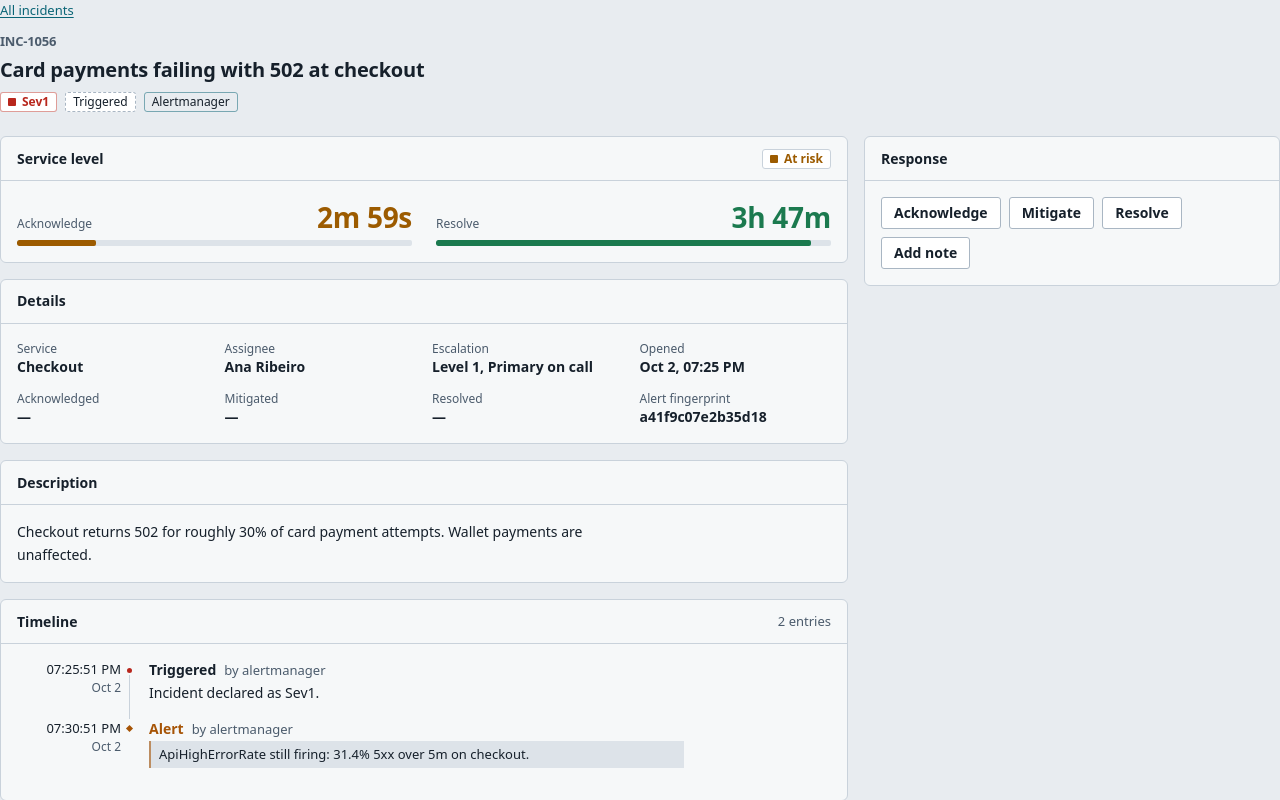
Test: IncidentDetailPage › resolves the incident and appends the resolution to the timeline
Click the button "Resolve" at (1142, 214), box x1=1102 y1=198 x2=1182 y2=230
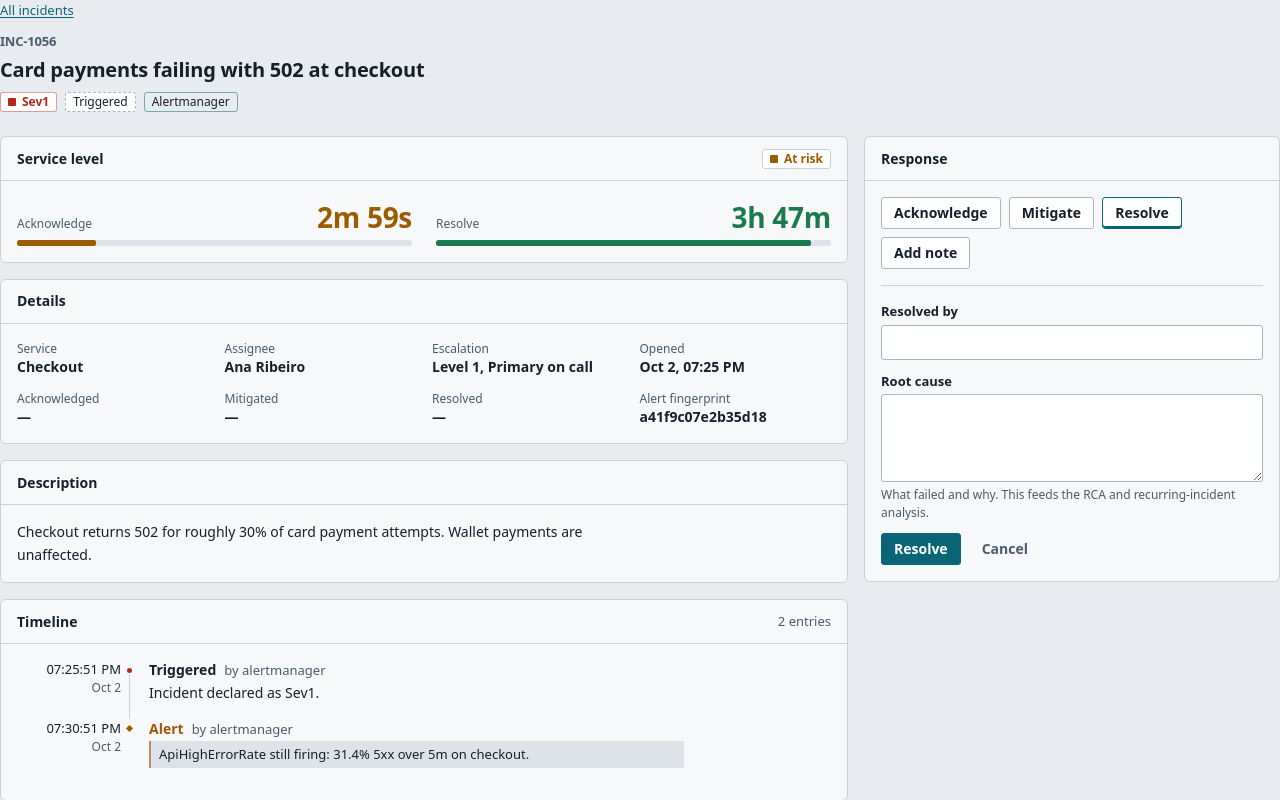
Type "Ana Ribeiro" into the field labelled "Resolved by" at (1072, 342), box x1=881 y1=325 x2=1263 y2=360
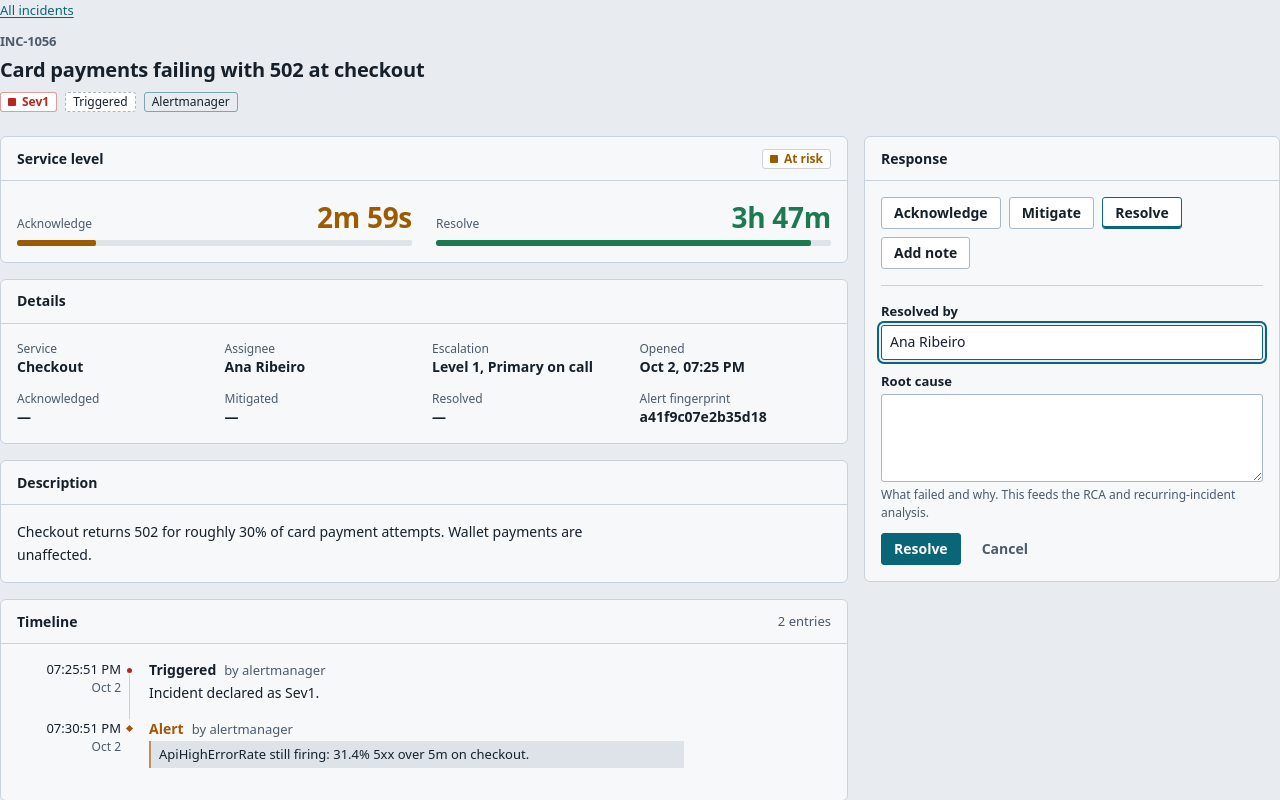
Type "Bad deploy of the card tokenizer, rolled back." into the text box labelled "Root cause" at (1072, 438), box x1=881 y1=394 x2=1263 y2=482
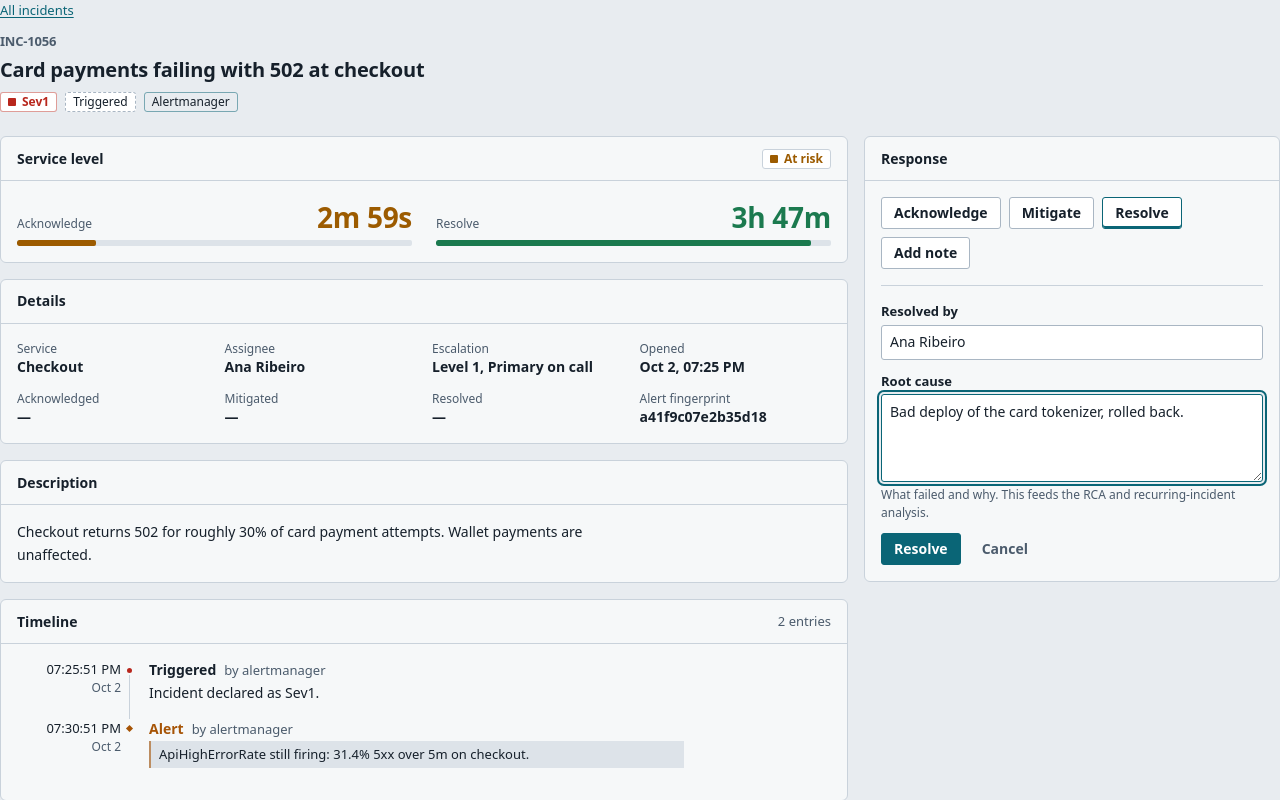
Click the button "Resolve" below "Root cause" at (921, 549), box x1=881 y1=533 x2=961 y2=565
(page scrolled)
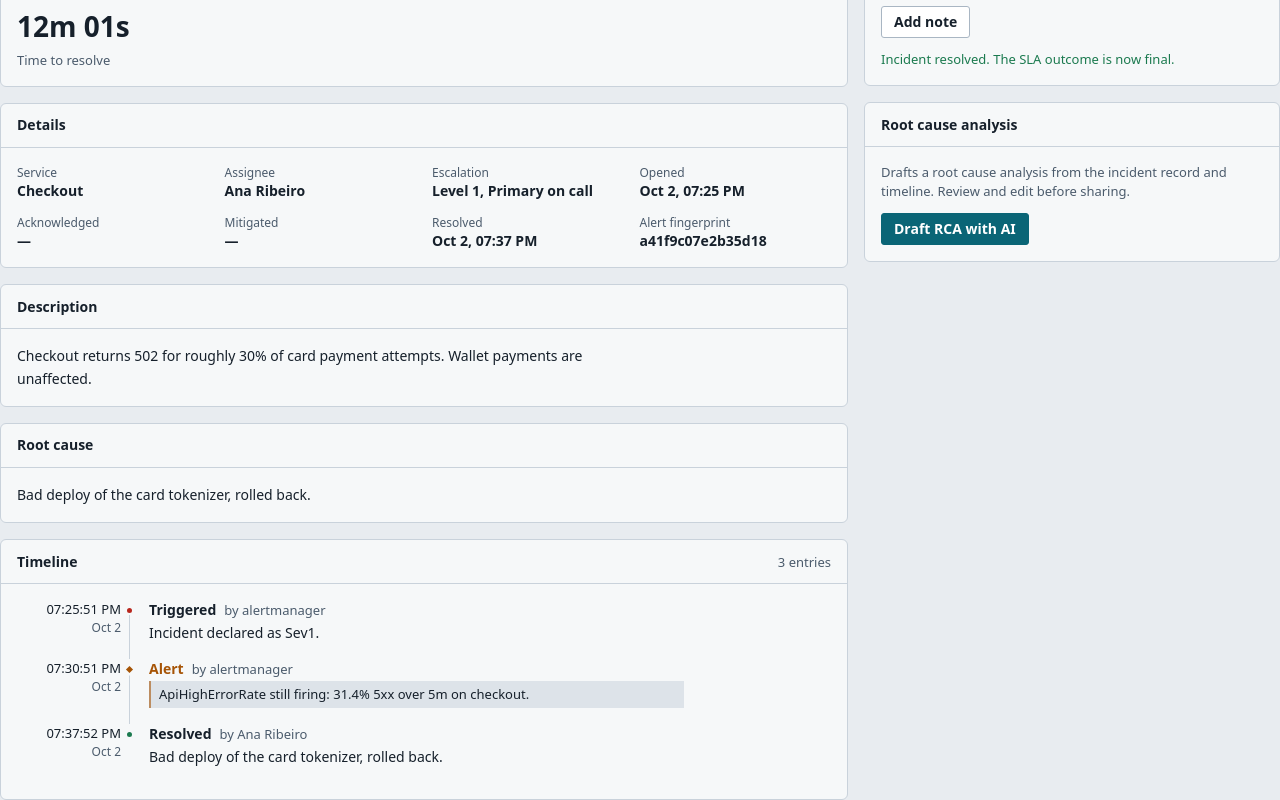
Now the text "Incident resolved. The SLA outcome is now final." is shown, box x1=881 y1=50 x2=1174 y2=68
Now the text "Bad deploy of the card tokenizer, rolled back." below "07:37:52 PM" is shown, box x1=149 y1=746 x2=443 y2=766
